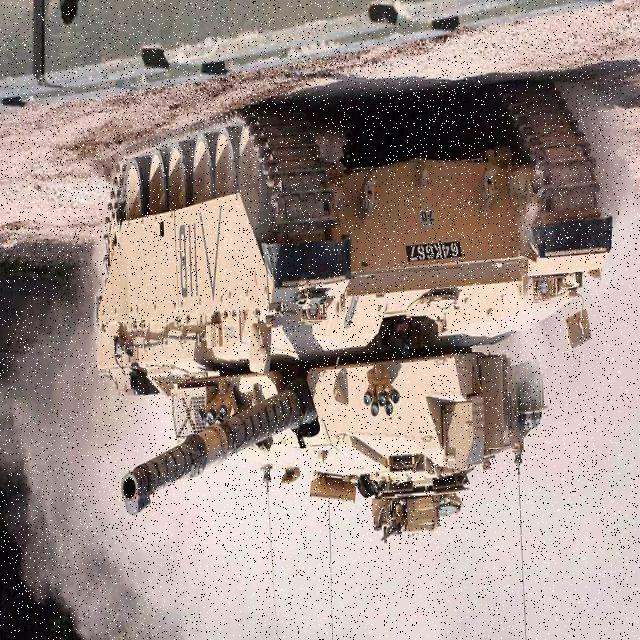MIL_MBT: (92, 110, 611, 552)
